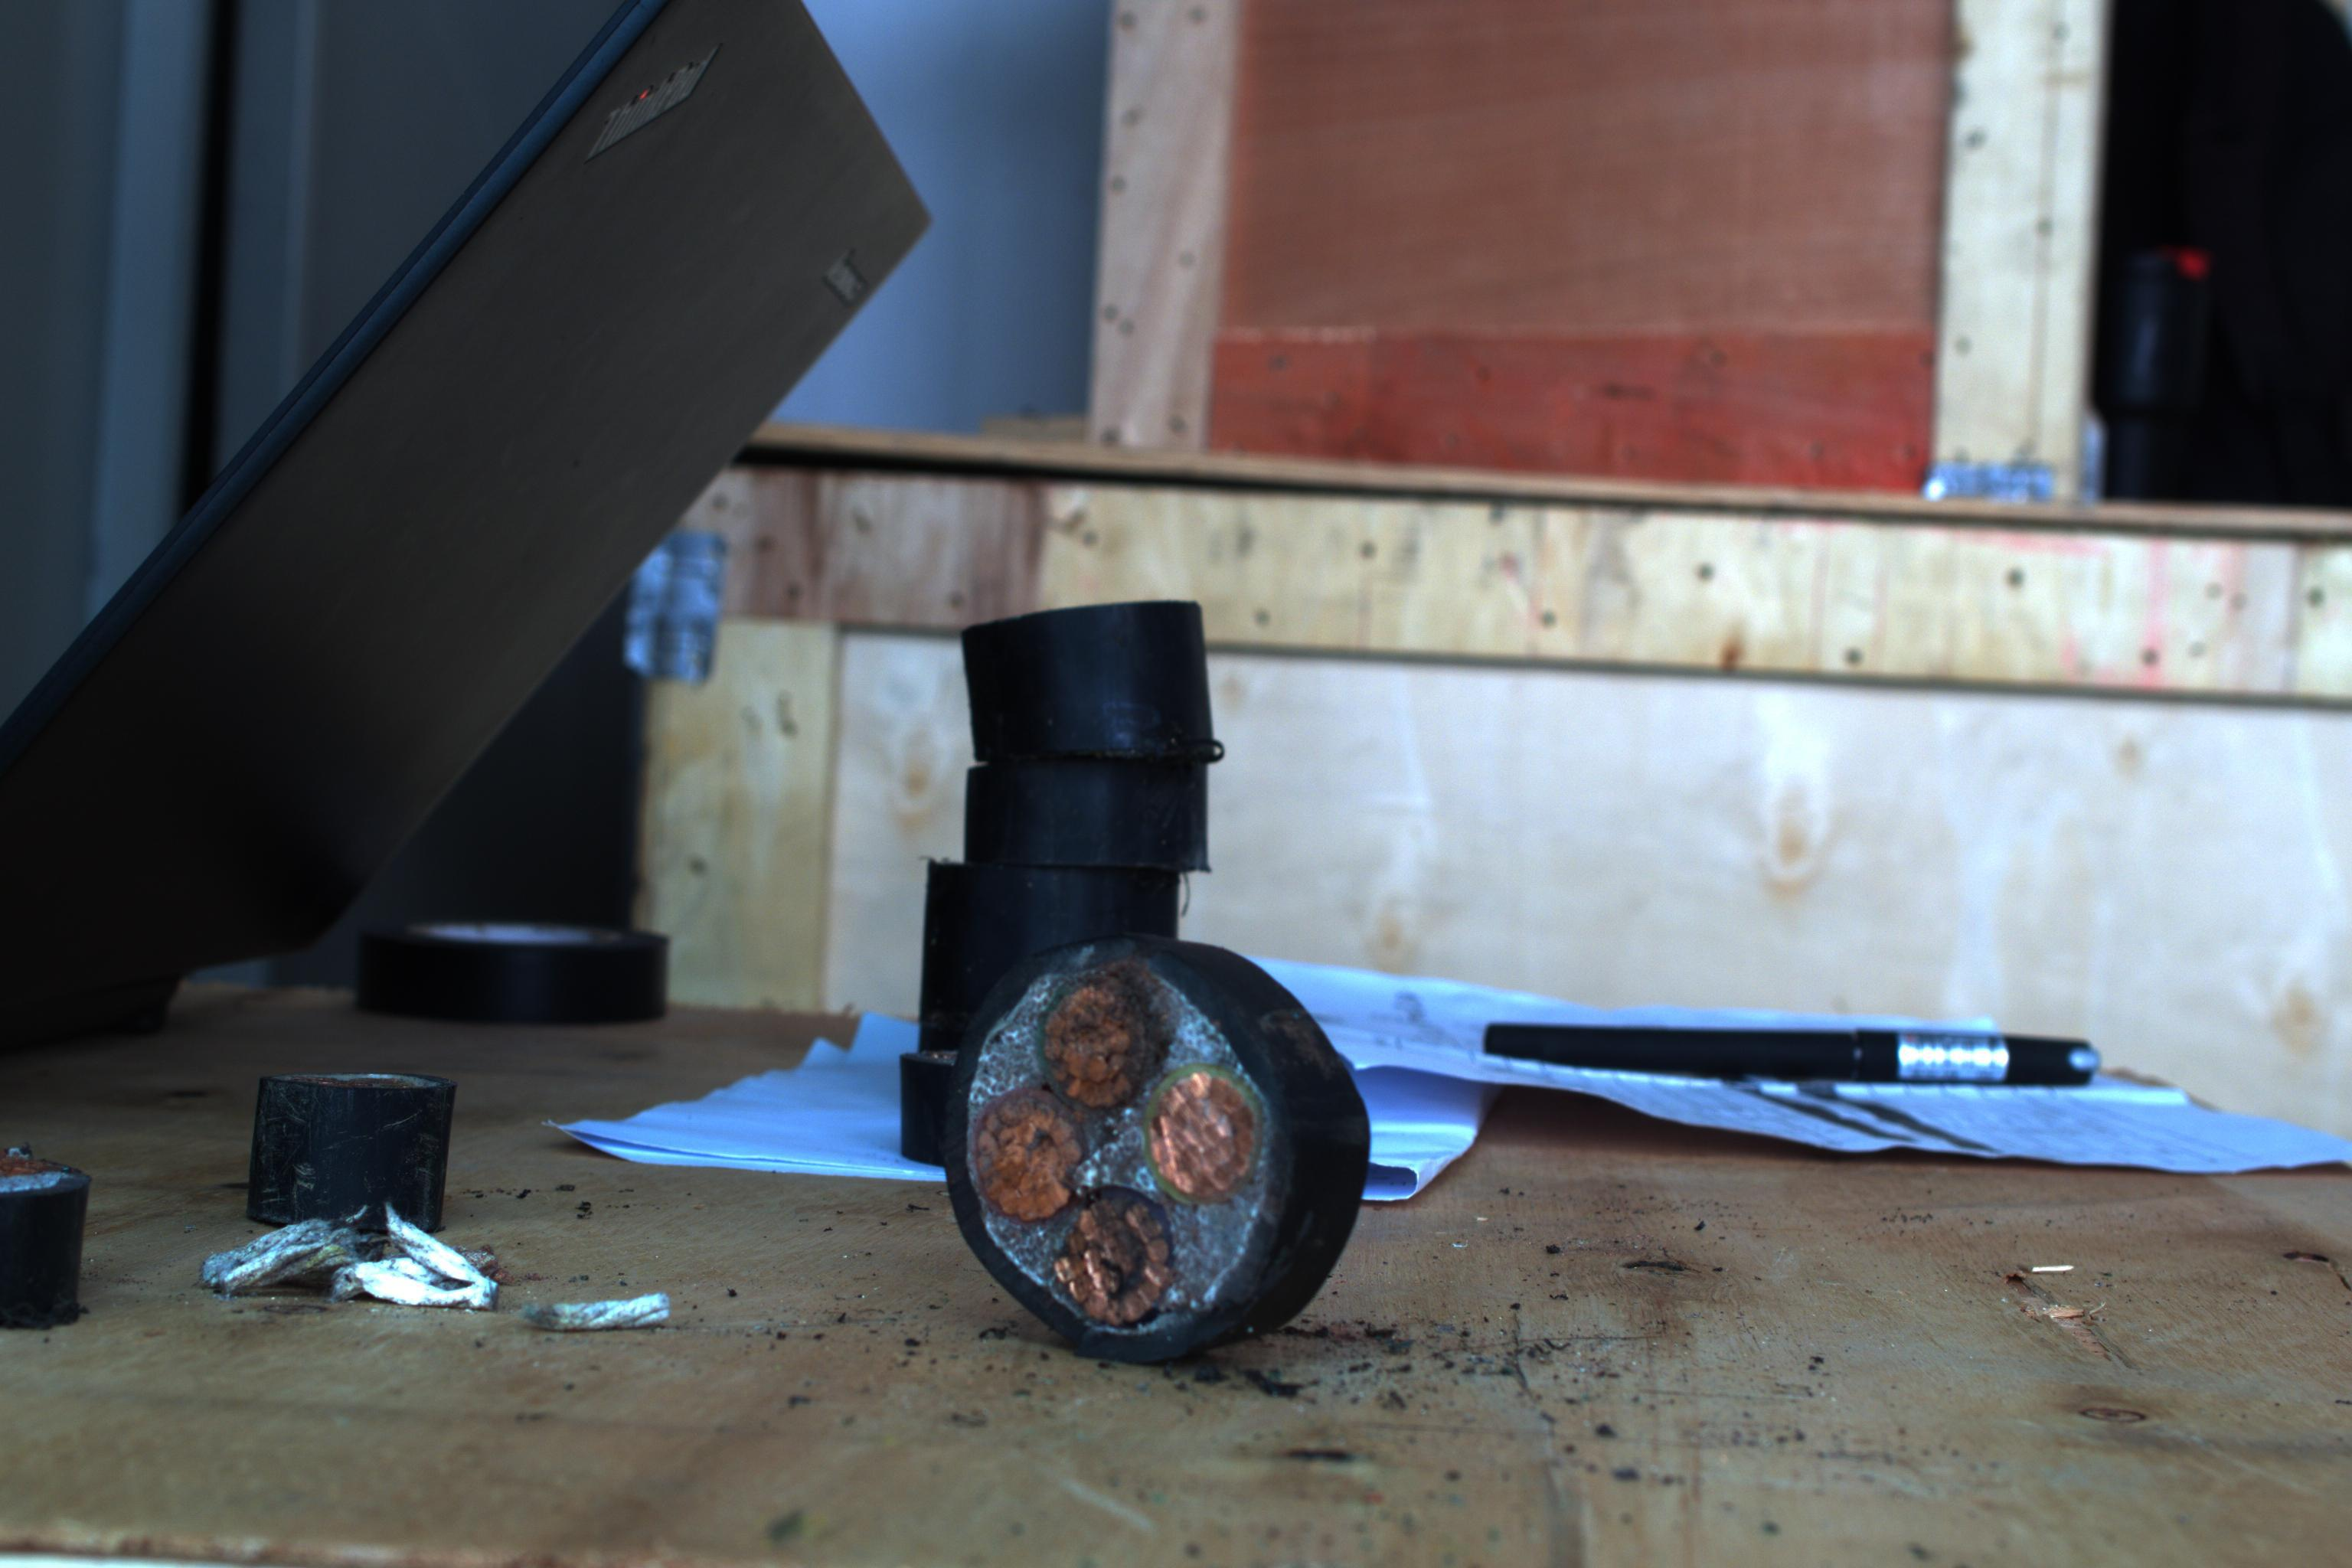YJV_0.6_1kV_4x120: (931, 931, 1291, 1339)
